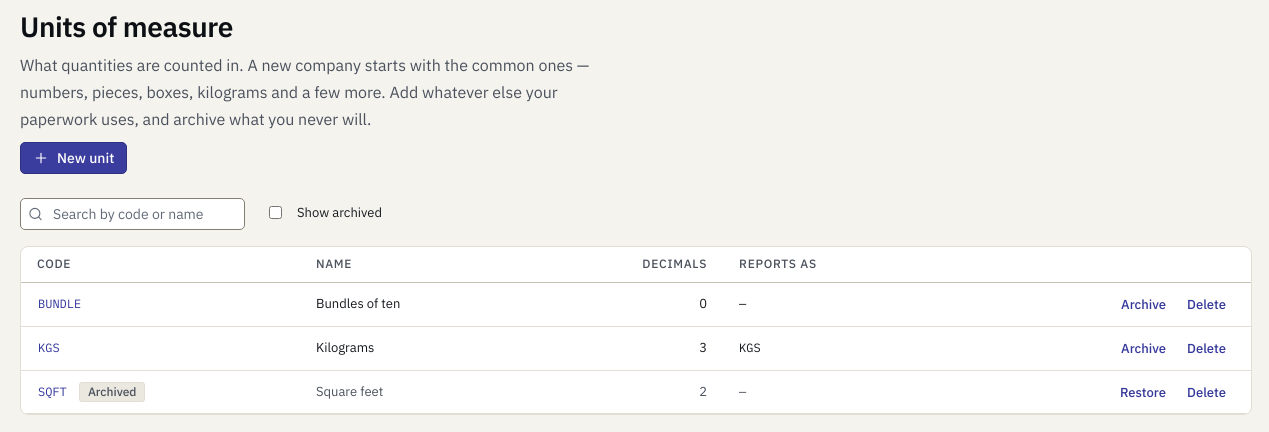
Test: the list › filters as you type, without asking again
The image size is (1269, 432).
Expected: the button "KGS" is shown, [29, 335, 69, 362]
Type "bundle" into the field with placeholder "Search by code or name" at {"x": 132, "y": 214}, box [20, 198, 245, 230]
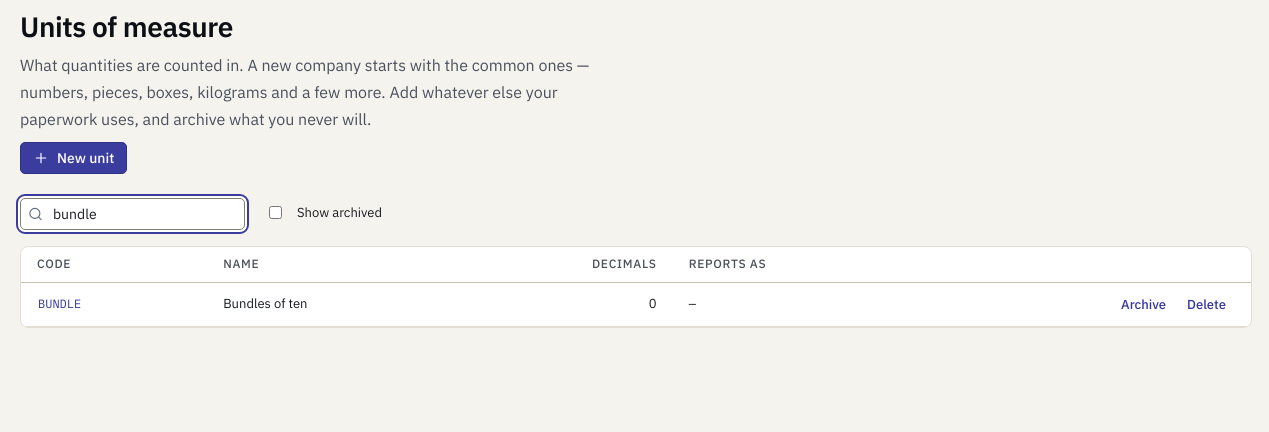
Expected: the button "BUNDLE" is shown, [29, 291, 90, 318]
Now the button "KGS" is gone
